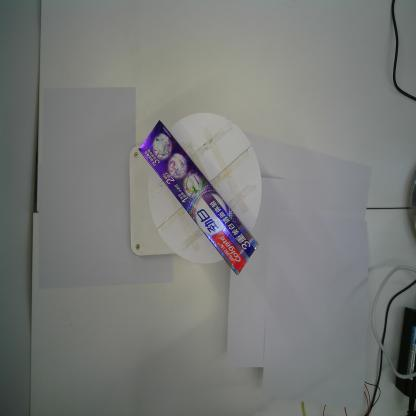Personal Hygiene: (137, 119, 261, 278)
